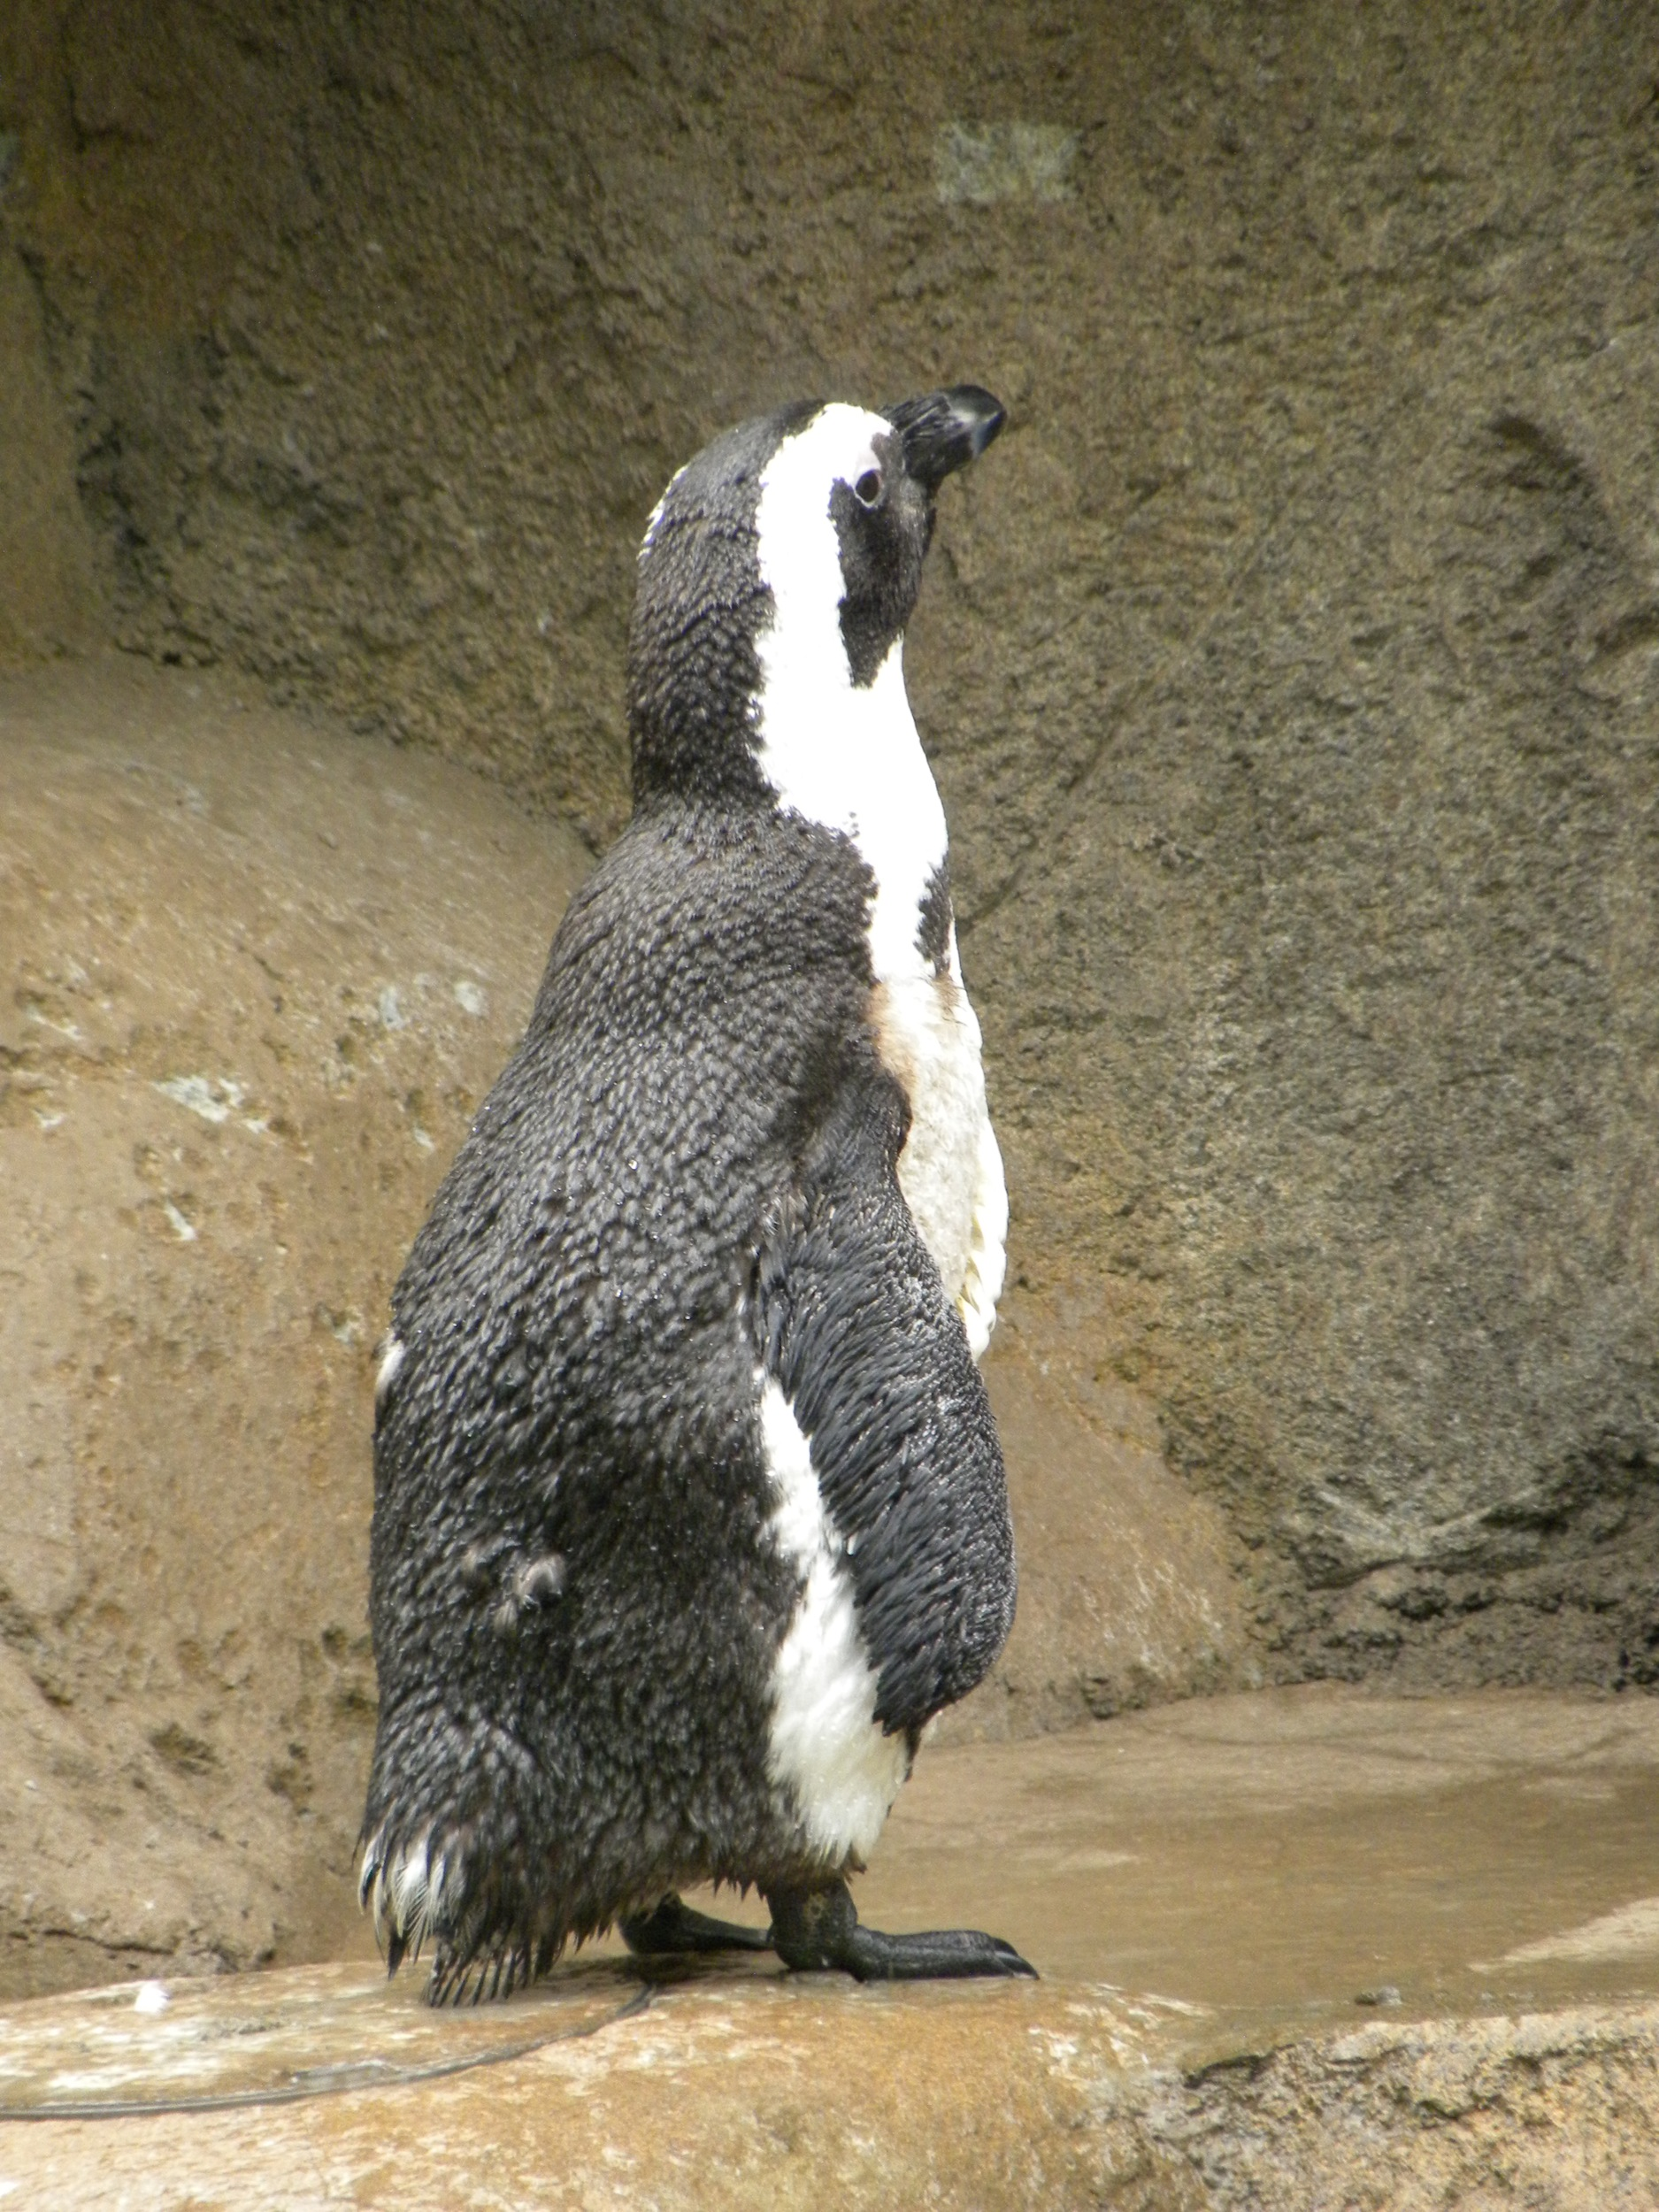penguin: (371, 378, 1054, 1975)
